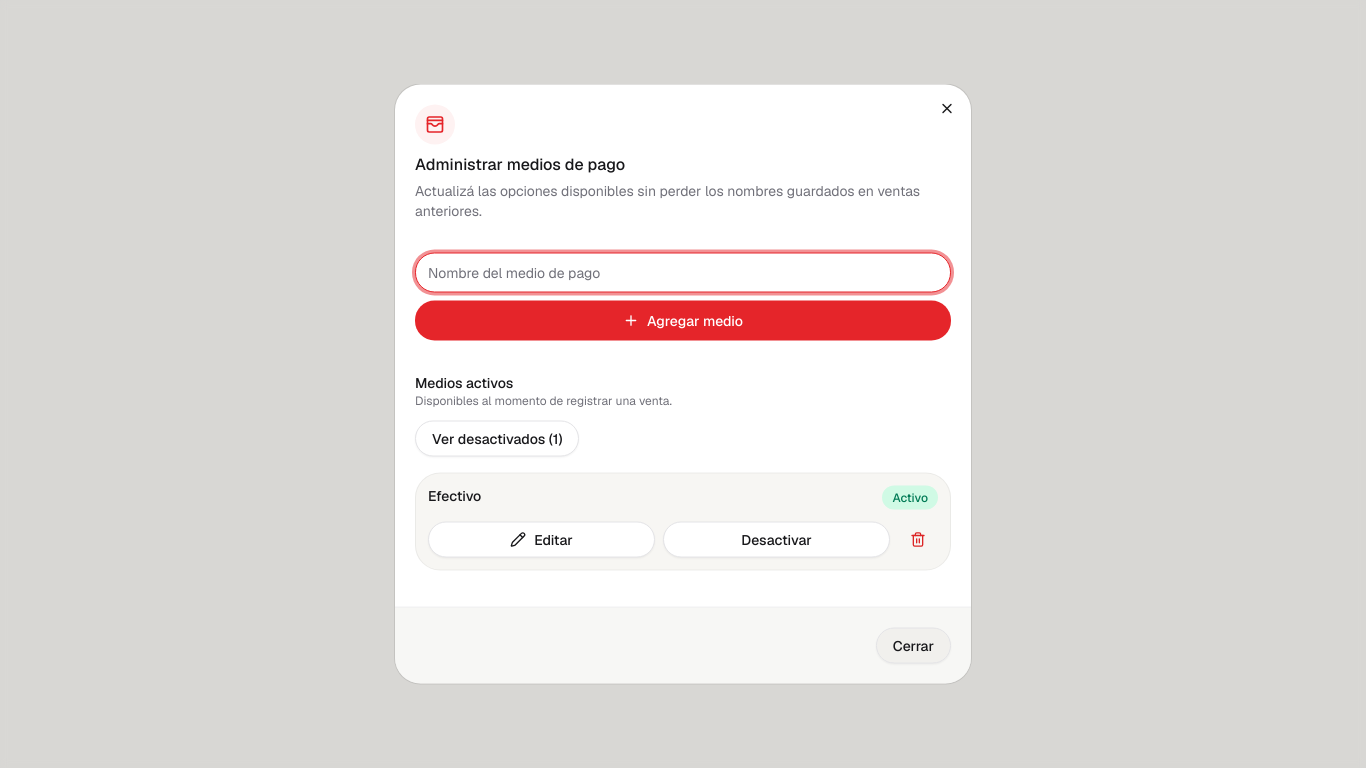
Test case: deletes only after explicit confirmation and removes the method from shared state
Click the button named "Eliminar Efectivo" at (918, 540), box left=898, top=522, right=938, bottom=558
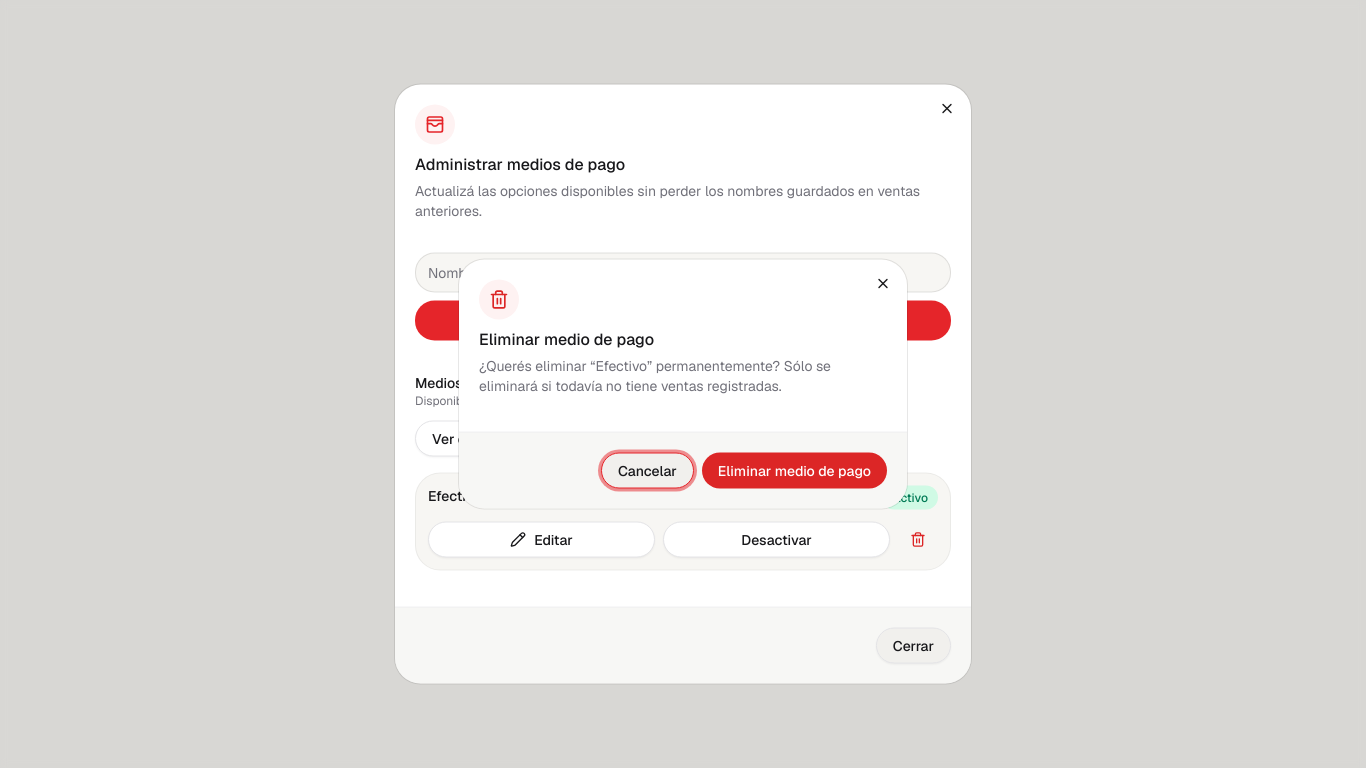
Click the button "Eliminar medio de pago" at (794, 470), box left=702, top=452, right=887, bottom=488
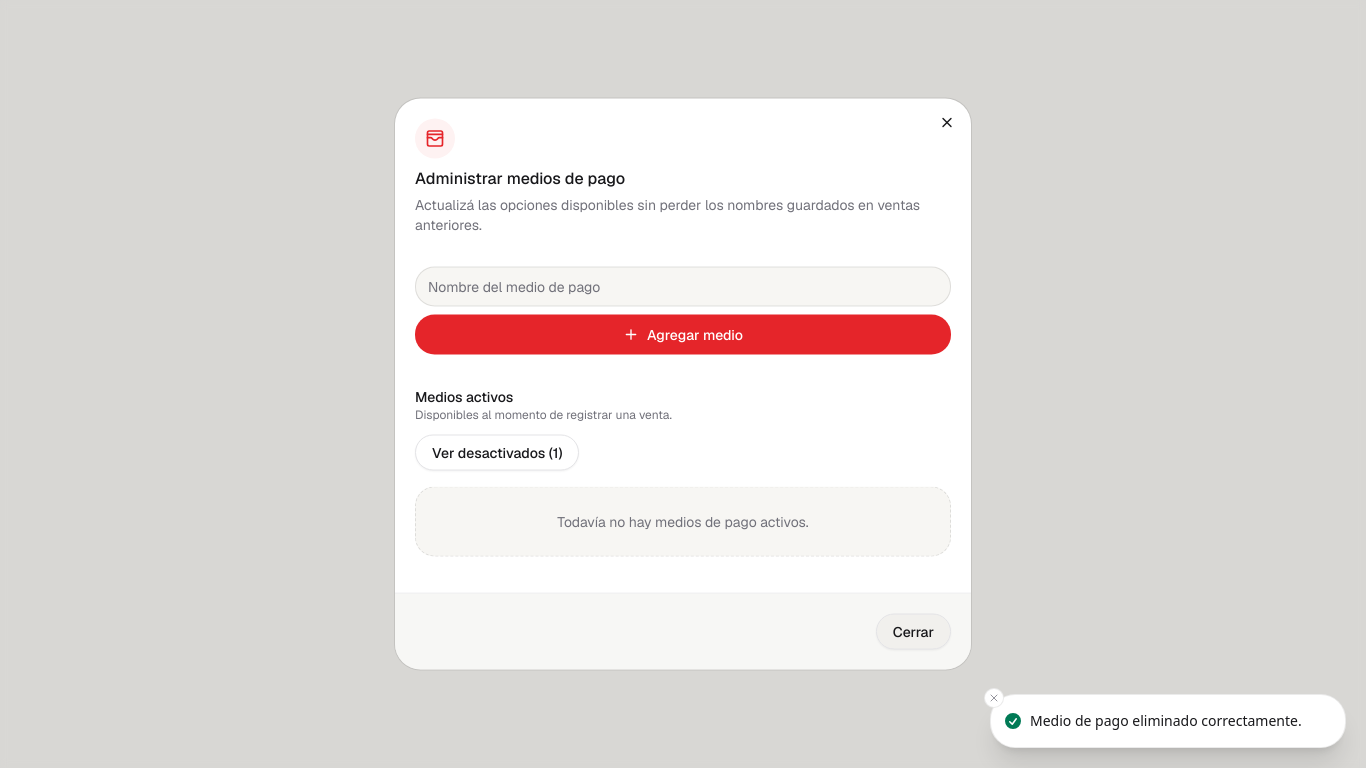
Expected: the text "Medio de pago eliminado correctamente." is shown, left=1030, top=711, right=1302, bottom=731
